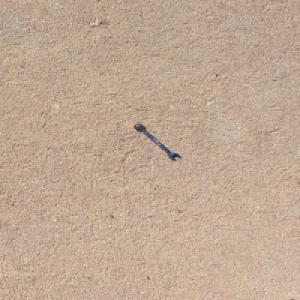Wrench: (132, 123, 181, 160)
